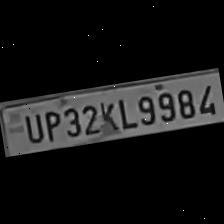2: (78, 98, 101, 134)
3: (60, 103, 82, 138)
4: (192, 80, 218, 118)
8: (172, 83, 196, 120)
9: (132, 90, 158, 127), (154, 86, 177, 122)
K: (97, 96, 120, 133)
L: (112, 92, 134, 130)
P: (40, 106, 61, 141)
U: (20, 108, 44, 143)
